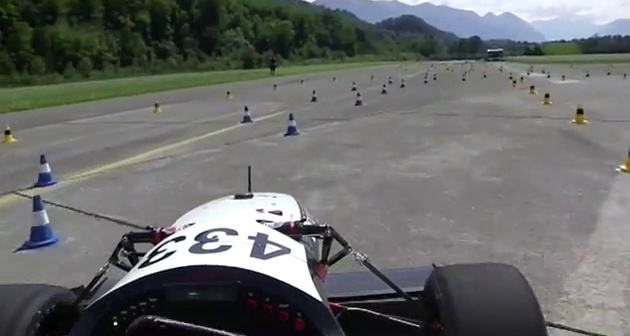Cone: (21, 194, 63, 251), (33, 151, 58, 187), (571, 97, 592, 125), (282, 114, 303, 138), (1, 122, 21, 145), (240, 103, 255, 124)
